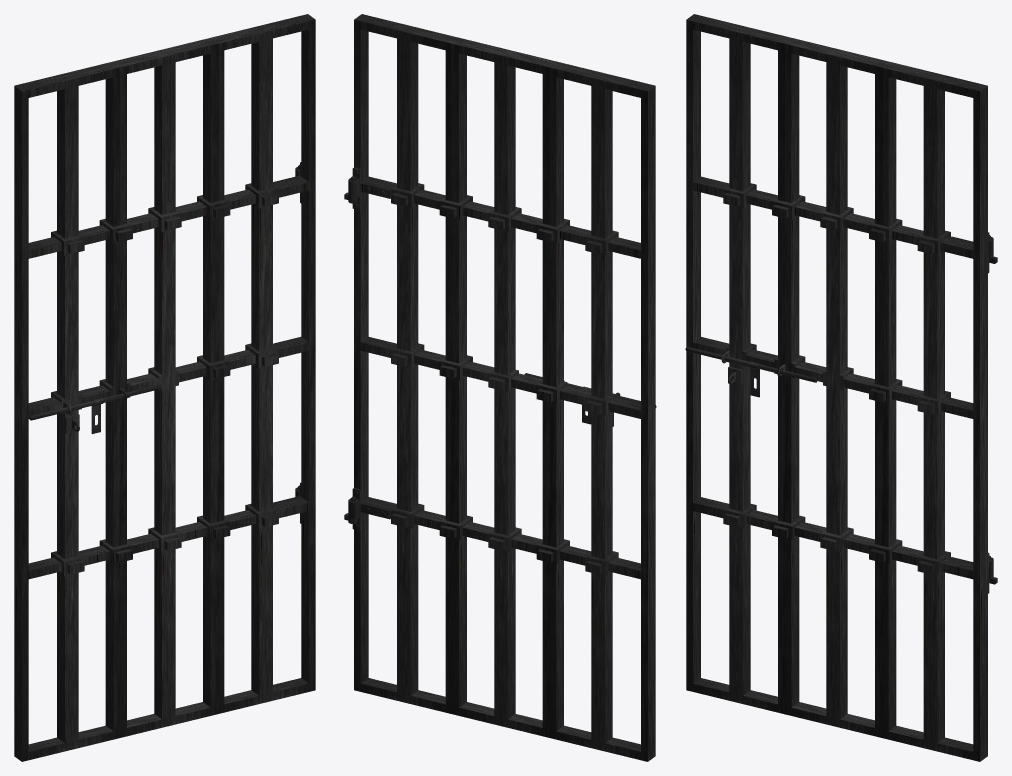
Rendered from barreaux_porte_final.glb.
3 views of the same model, side by side, from view 1: azimuth 30°, elevation 25°; view 2: azimuth 150°, elevation 25°; view 3: azimuth 330°, elevation 25° (orthographic).
Visible parts, largest first — view 1: PORTE PRISON; view 2: PORTE PRISON; view 3: PORTE PRISON.
Part boxes in pixels (box(x1,y1,x2,y2)): PORTE PRISON: box(14, 14, 315, 761); PORTE PRISON: box(344, 14, 656, 761); PORTE PRISON: box(685, 14, 997, 761).
Bounding box in the file's own units: 1.36 × 2.91 × 0.171.
Materials: 1 (1 with a texture image).
